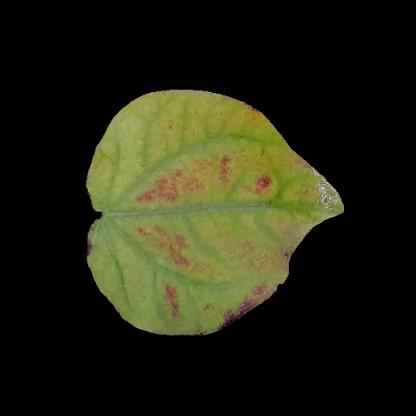curl_stage1: (126, 160, 260, 266), (123, 102, 257, 150), (126, 264, 214, 323), (241, 165, 308, 231), (207, 262, 259, 304)
